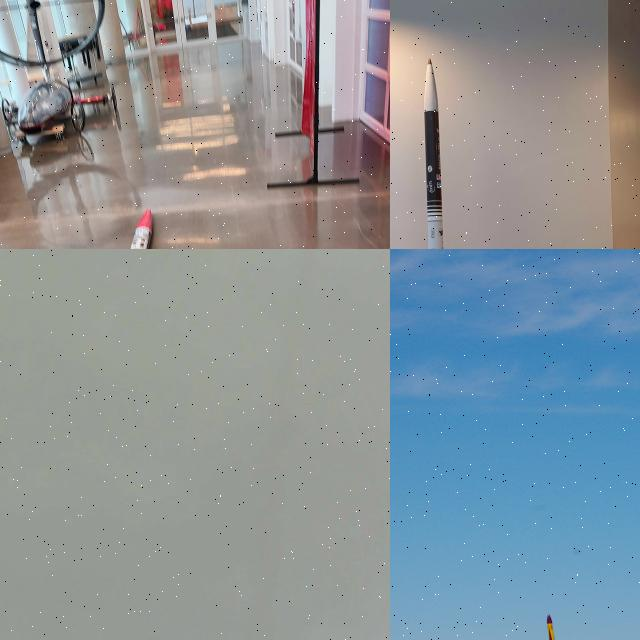Rocket: (424, 58, 443, 249), (545, 613, 567, 640)
